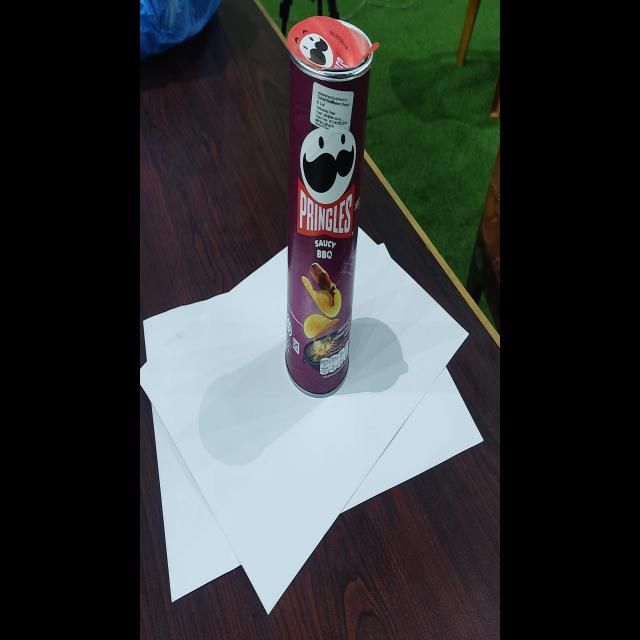Pringles: (284, 15, 378, 397)
